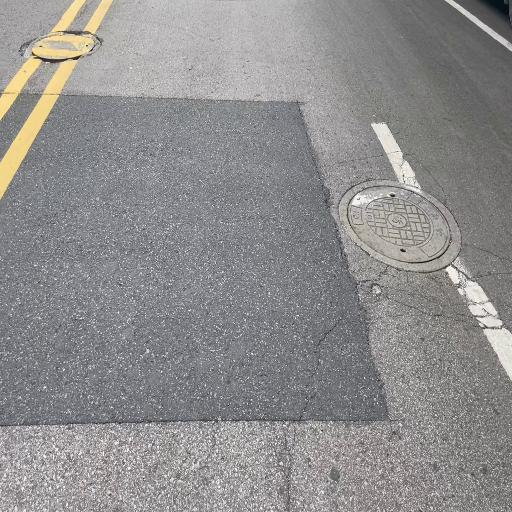Lubang: (335, 180, 464, 269)
Sambungan: (0, 88, 392, 429)
